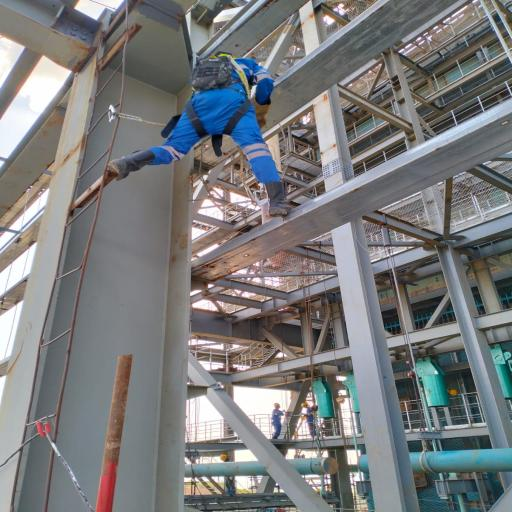safety_shoe: (98, 146, 160, 184), (258, 180, 302, 222)
